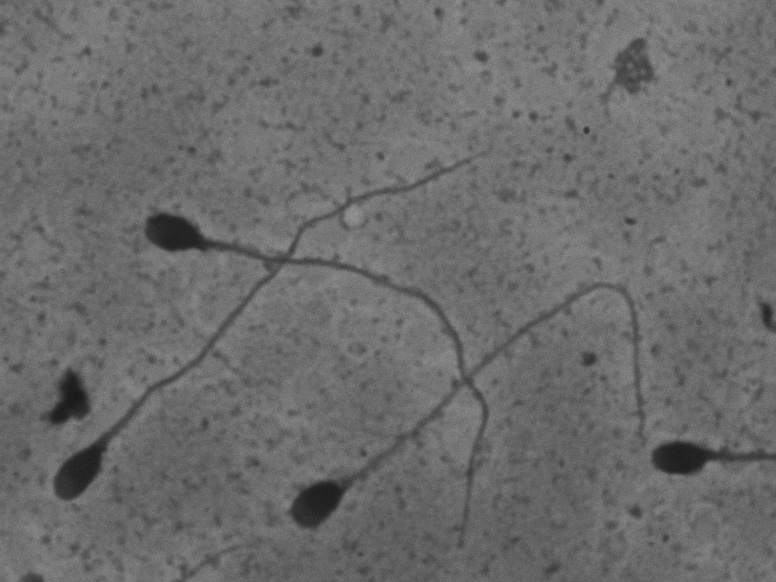Normal: (42, 138, 502, 515), (138, 207, 498, 554), (278, 268, 651, 548)
